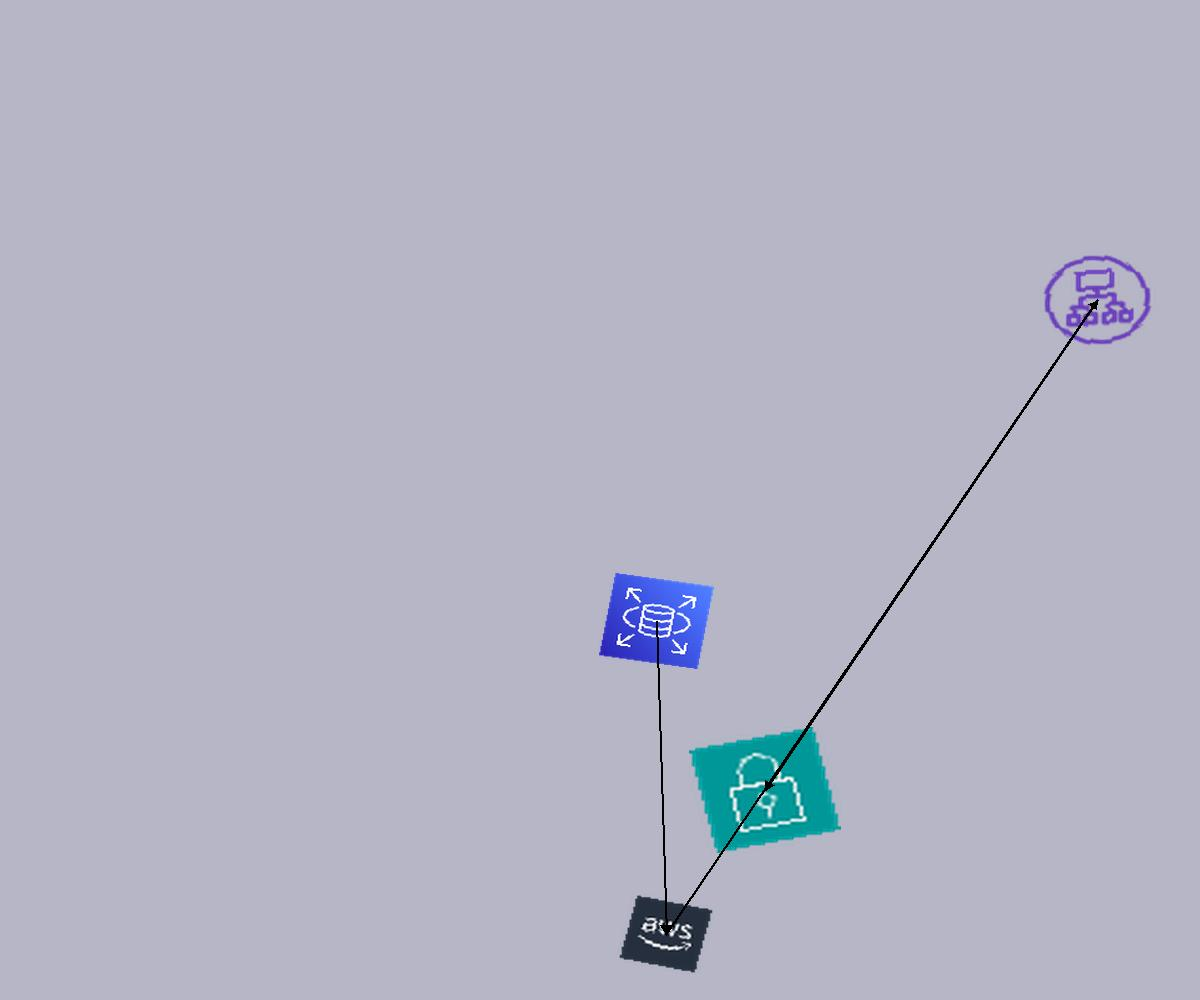AWS-Cloud-logo: (618, 894, 714, 974)
AWS-Private-subnet: (689, 727, 841, 853)
AWS-RDS: (598, 572, 715, 670)
AWS-Res_Elastic-Load-Balancing_Application-Load-Balancer: (1033, 246, 1162, 354)
